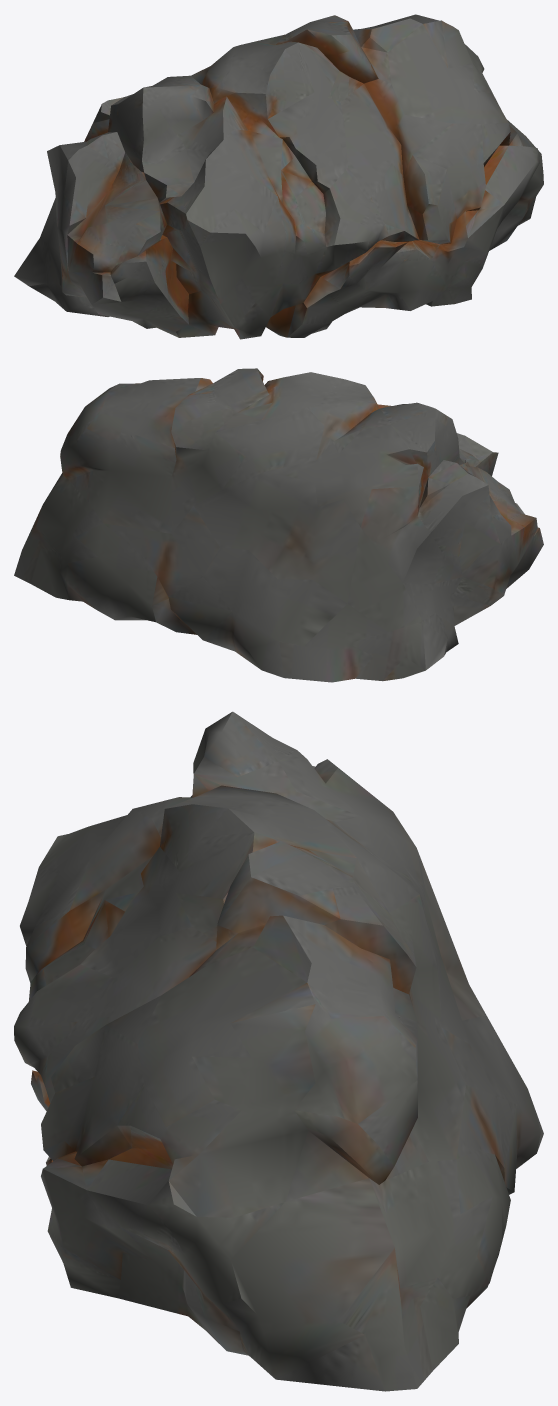
The model's file is resource_iron_ore_1.glb.
The picture shows the model from 3 angles, top to bottom: view 1: azimuth 30°, elevation 25°; view 2: azimuth 150°, elevation 25°; view 3: azimuth 270°, elevation 25°; orthographic projection. The views are drawn at different scales.
Visible parts, largest first — view 1: MeshyGear_resource_iron_ore; view 2: MeshyGear_resource_iron_ore; view 3: MeshyGear_resource_iron_ore.
Boxes of the visible parts, <box> form: MeshyGear_resource_iron_ore: <box>14,14,543,339</box>; MeshyGear_resource_iron_ore: <box>14,368,543,682</box>; MeshyGear_resource_iron_ore: <box>14,711,543,1391</box>.
Size of what is drawn, in the model's own units: 2.2 by 1.05 by 1.32.
1 material, 1 textured.
